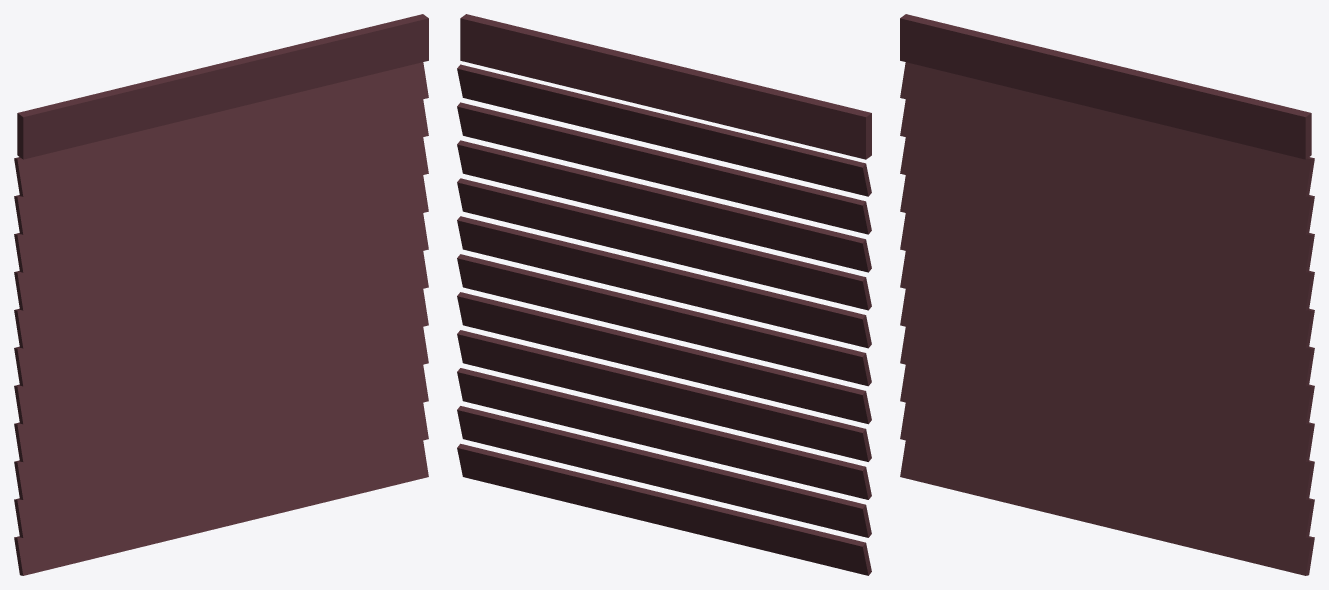
File: furniture-blinds-modern-down.glb
The picture shows the model from 3 angles, left to right: view 1: azimuth 30°, elevation 25°; view 2: azimuth 150°, elevation 25°; view 3: azimuth 330°, elevation 25°; orthographic projection.
Parts seen in each view (by area): view 1: blinds-modern-down; view 2: blinds-modern-down; view 3: blinds-modern-down.
Boxes of the visible parts, left/top/right/bottom form: blinds-modern-down: left=14, top=14, right=428, bottom=575; blinds-modern-down: left=457, top=14, right=871, bottom=575; blinds-modern-down: left=900, top=14, right=1314, bottom=575.
Size of the model in its own units: 2 by 2.17 by 0.0787.
